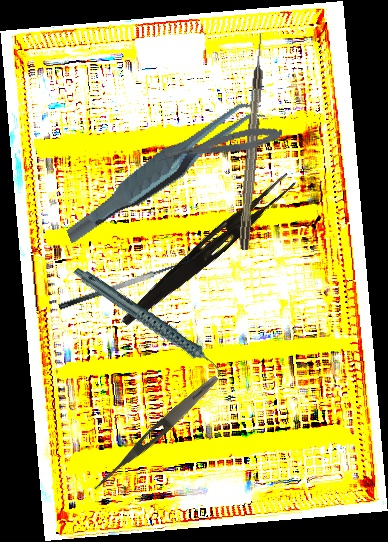Dressing Forceps: (119, 166, 297, 335), (90, 371, 222, 496)
Handpiece: (72, 240, 225, 404)
Hook Surgical: (237, 32, 268, 251)
Micro Scissor: (156, 123, 284, 166)
Spatula Surgical: (54, 249, 193, 312)
Tissue Forceps: (46, 96, 283, 245)
